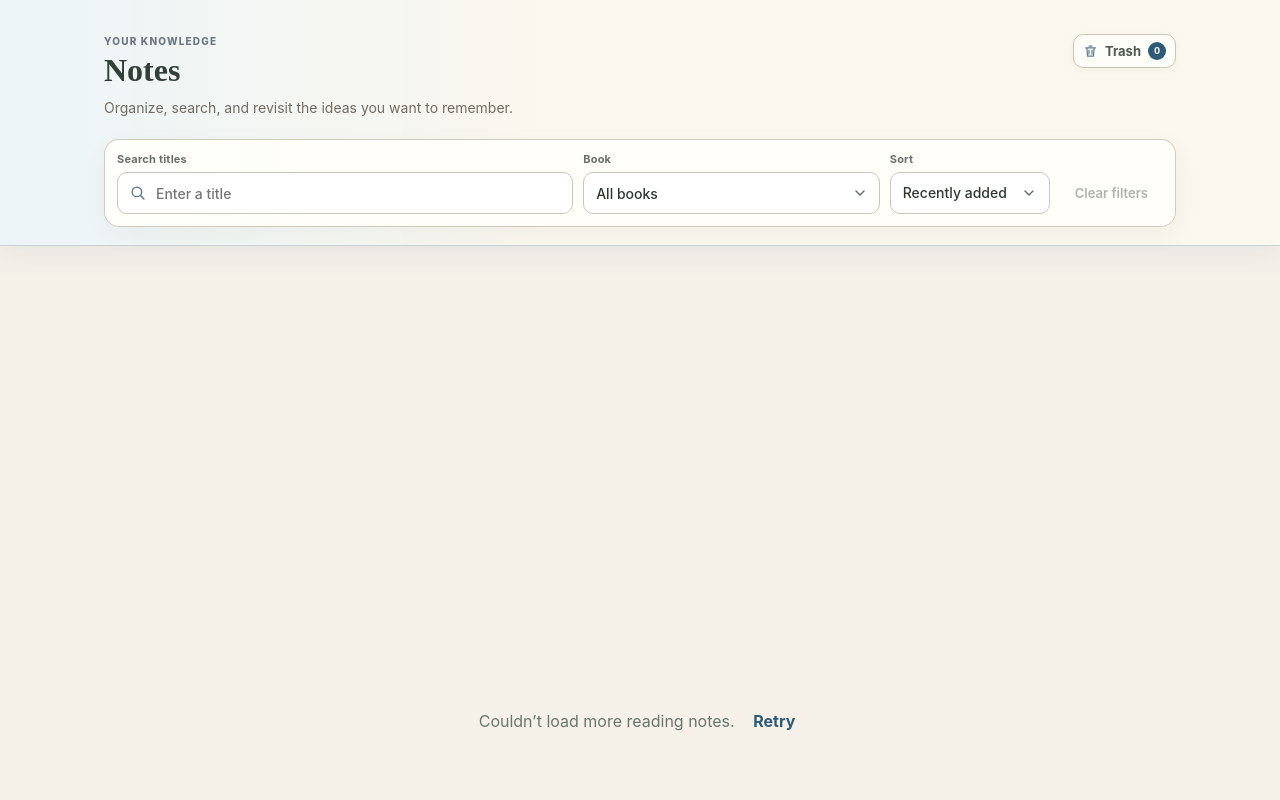
Scenario: library retains the first page and retries a failed continuation
(page scrolled)
Click the button "Retry": click(774, 721) 747,710 -> 801,732
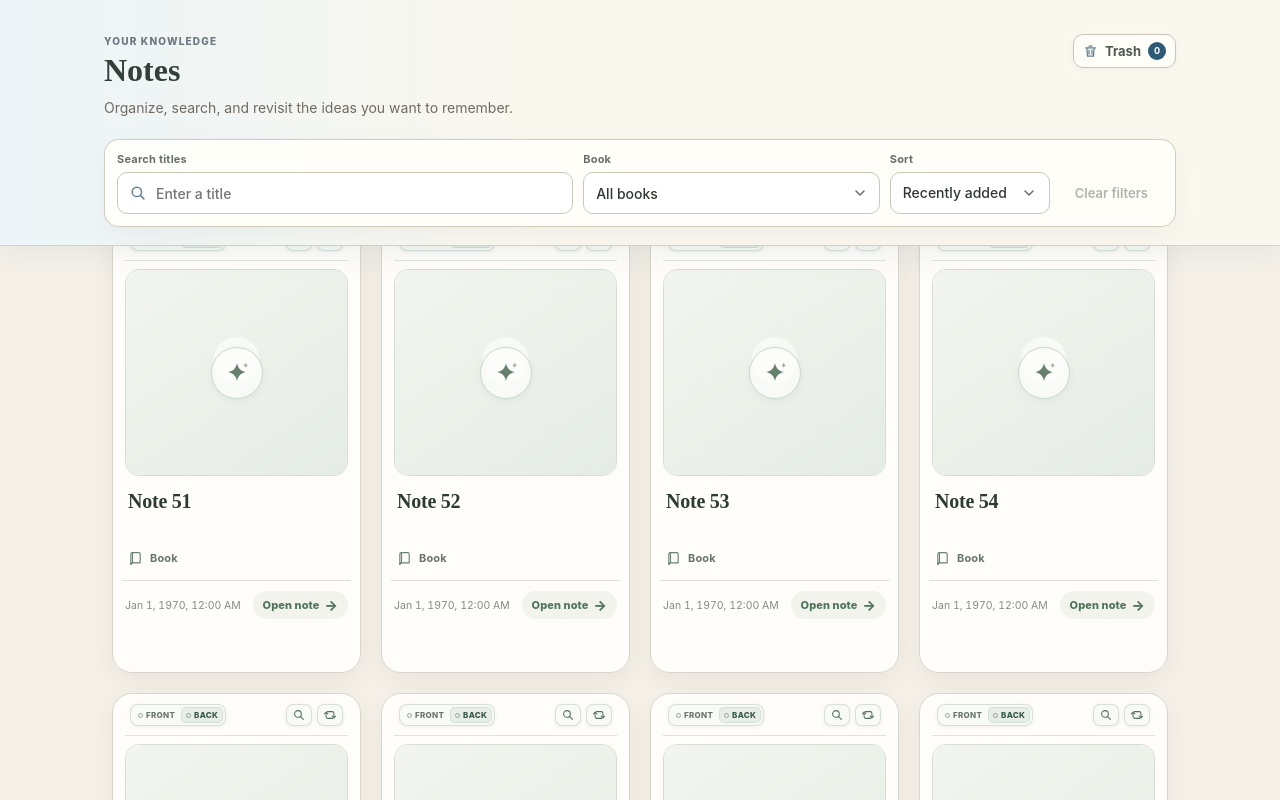
Expected: the button "Retry" is gone
